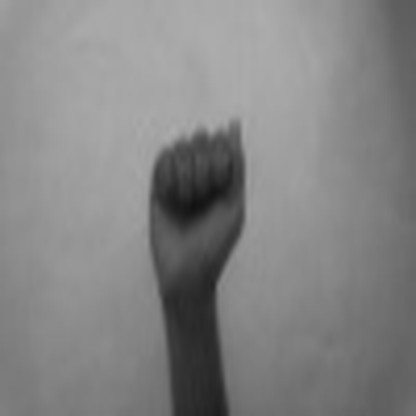a: (139, 112, 248, 295)
